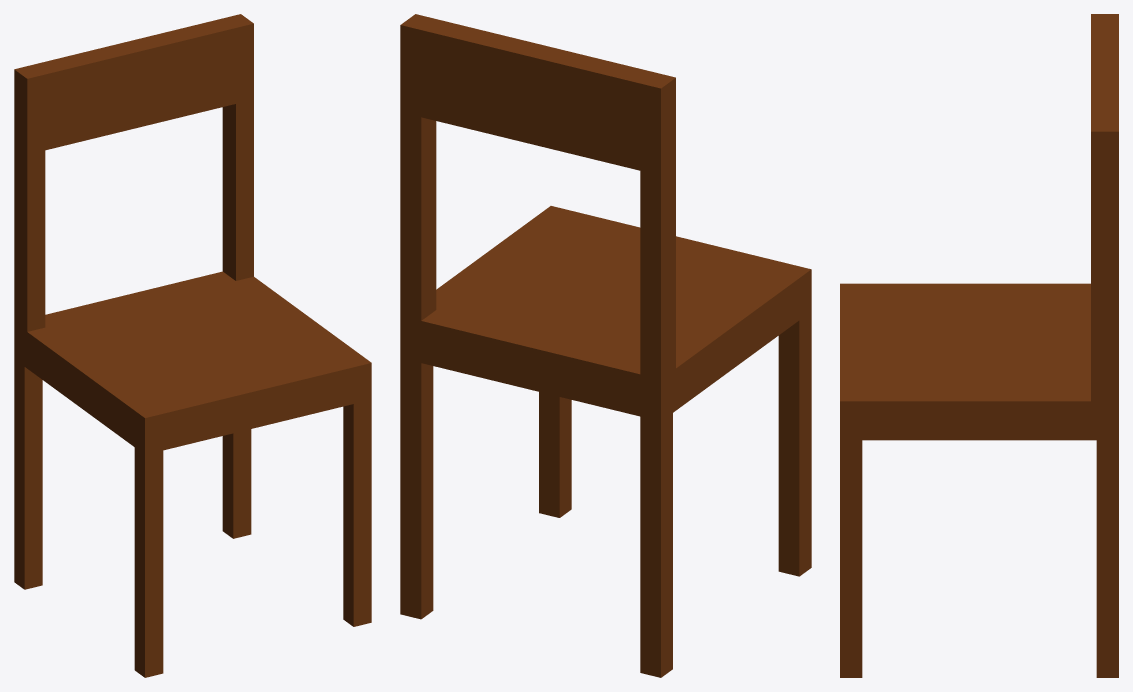
File: Silla.fbx
The picture shows the model from 3 angles, left to right: view 1: azimuth 30°, elevation 25°; view 2: azimuth 150°, elevation 25°; view 3: azimuth 270°, elevation 25°; orthographic projection. The views are drawn at different scales.
Visible parts, largest first — view 1: Silla; view 2: Silla; view 3: Silla.
Part boxes in pixels (bbox=[...]): Silla: bbox=[14, 14, 371, 677]; Silla: bbox=[400, 14, 811, 677]; Silla: bbox=[840, 14, 1118, 677].
Size of the model in its own units: 1.27 by 2.74 by 1.27.
